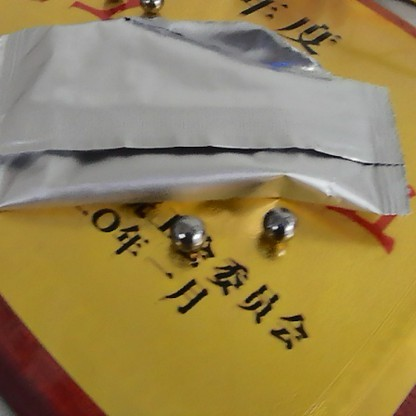ironball: (163, 215, 214, 257), (261, 203, 299, 244)
